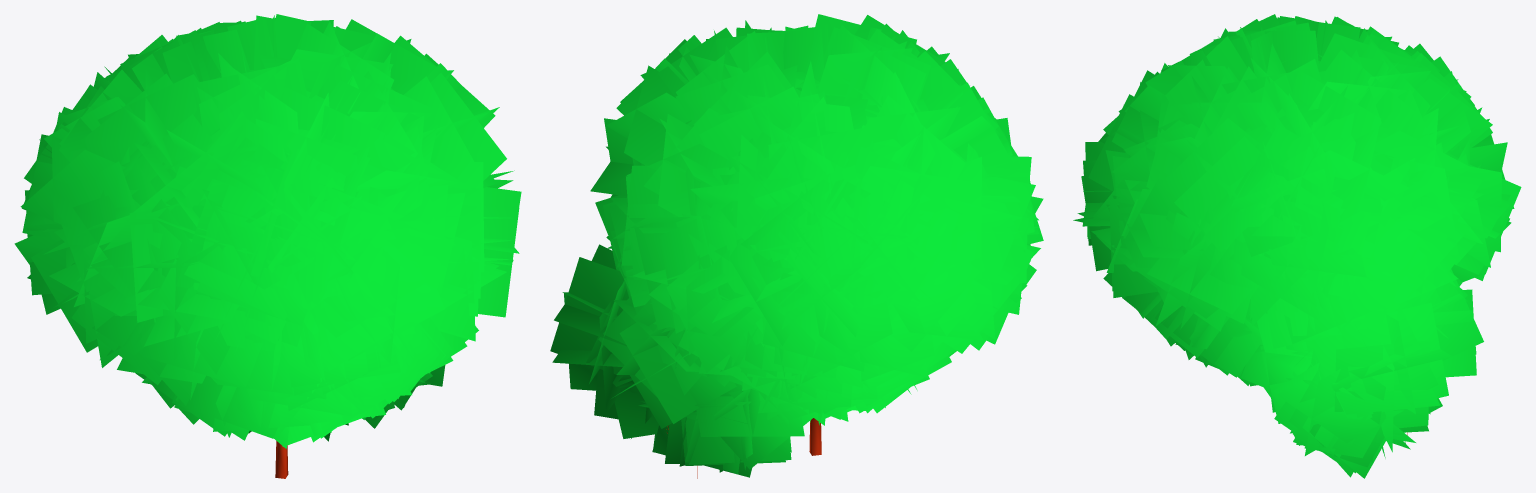
The picture shows the model from 3 angles, left to right: view 1: azimuth 30°, elevation 25°; view 2: azimuth 150°, elevation 25°; view 3: azimuth 270°, elevation 25°; orthographic projection. The views are drawn at different scales.
Parts seen in each view (by area): view 1: Plane.001; view 2: Plane.001; view 3: Plane.001.
Part boxes in pixels (x1=…): Plane.001: x1=14, y1=14, x2=521, y2=448; Plane.001: x1=550, y1=14, x2=1043, y2=477; Plane.001: x1=1073, y1=14, x2=1521, y2=478.
Size of the model in its own units: 6.8 by 6.55 by 6.95.
